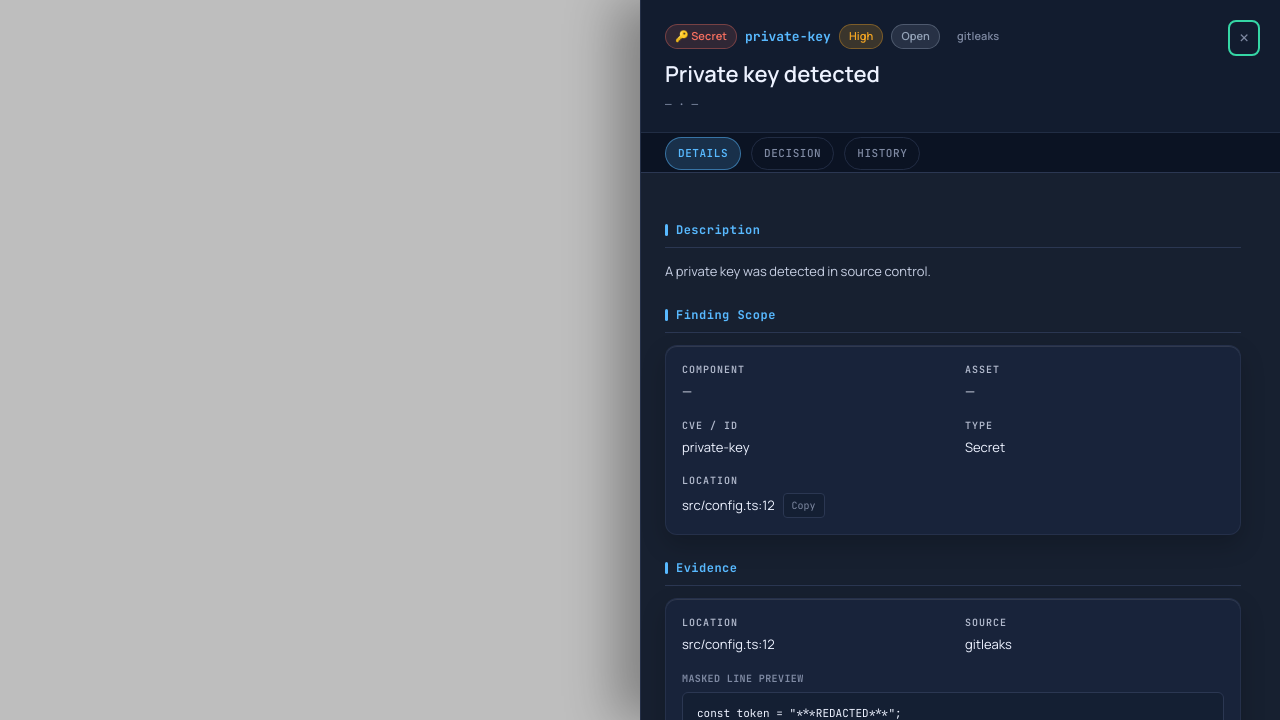
it: DetailPanel evidence › renders audit entries in the history tab
Click the tab "History".
click(882, 153)  # box [844,137,920,170]
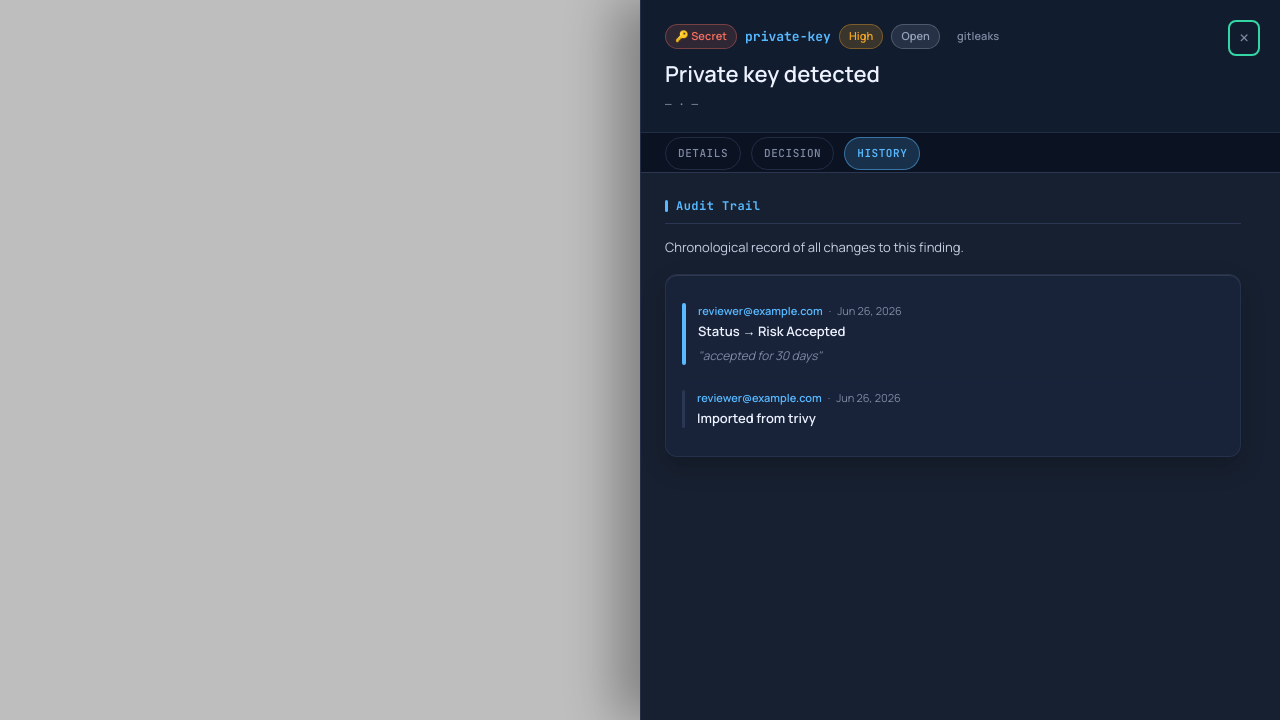
Expected: the text "Status → Risk Accepted" is shown, [698,322,846,340]
Expected: the text "Imported from trivy" is shown, [697,409,816,427]
Expected: the text "\"accepted for 30 days\"" is shown, [698,347,822,364]
